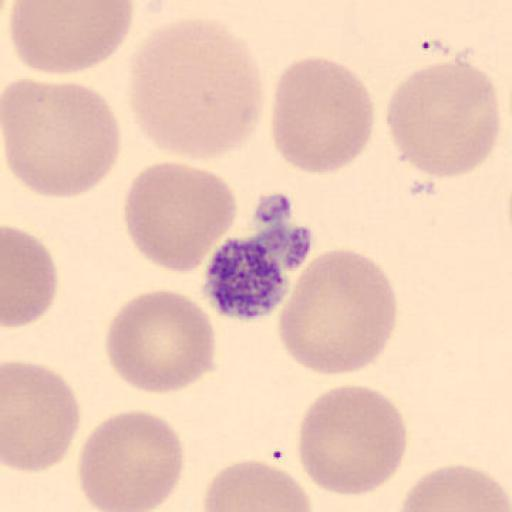Platelet: (205, 231, 289, 324), (244, 221, 321, 279), (254, 193, 301, 230)
RBC: (125, 18, 262, 160), (278, 248, 398, 374), (0, 76, 121, 199), (386, 58, 500, 178), (124, 160, 239, 274), (270, 56, 376, 174), (297, 385, 407, 497), (104, 285, 215, 393), (77, 410, 185, 510), (10, 0, 134, 75), (0, 362, 78, 476), (0, 224, 57, 330), (398, 464, 511, 511), (205, 461, 311, 511)
